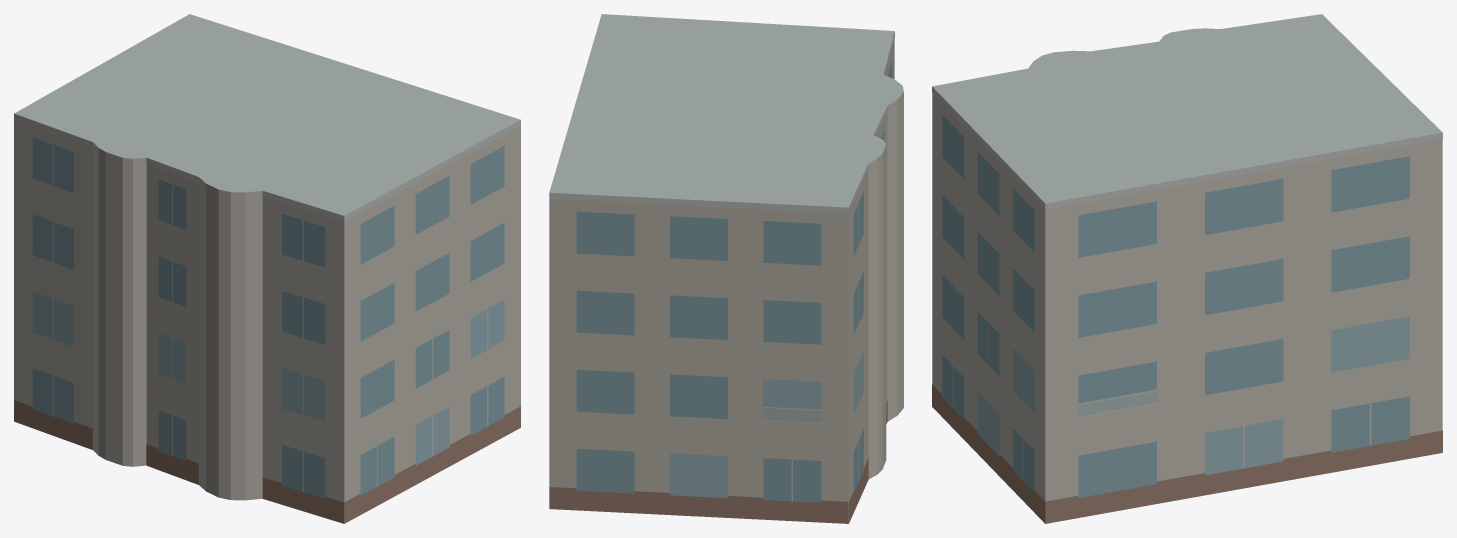
File: survey-upis-32746666.glb
3 renders of one model, left to right at view 1: azimuth 30°, elevation 25°; view 2: azimuth 150°, elevation 25°; view 3: azimuth 270°, elevation 25°, orthographic. The views are drawn at different scales.
Visible parts, largest first — view 1: survey-upis-32746666.tmp; view 2: survey-upis-32746666.tmp; view 3: survey-upis-32746666.tmp.
Boxes of the visible parts, x1,y1,x2,y2 form: survey-upis-32746666.tmp: (14, 14, 520, 523); survey-upis-32746666.tmp: (549, 14, 903, 523); survey-upis-32746666.tmp: (932, 14, 1442, 523).
Bounding box in the file's own units: 16.14 × 12.7 × 18.36.
